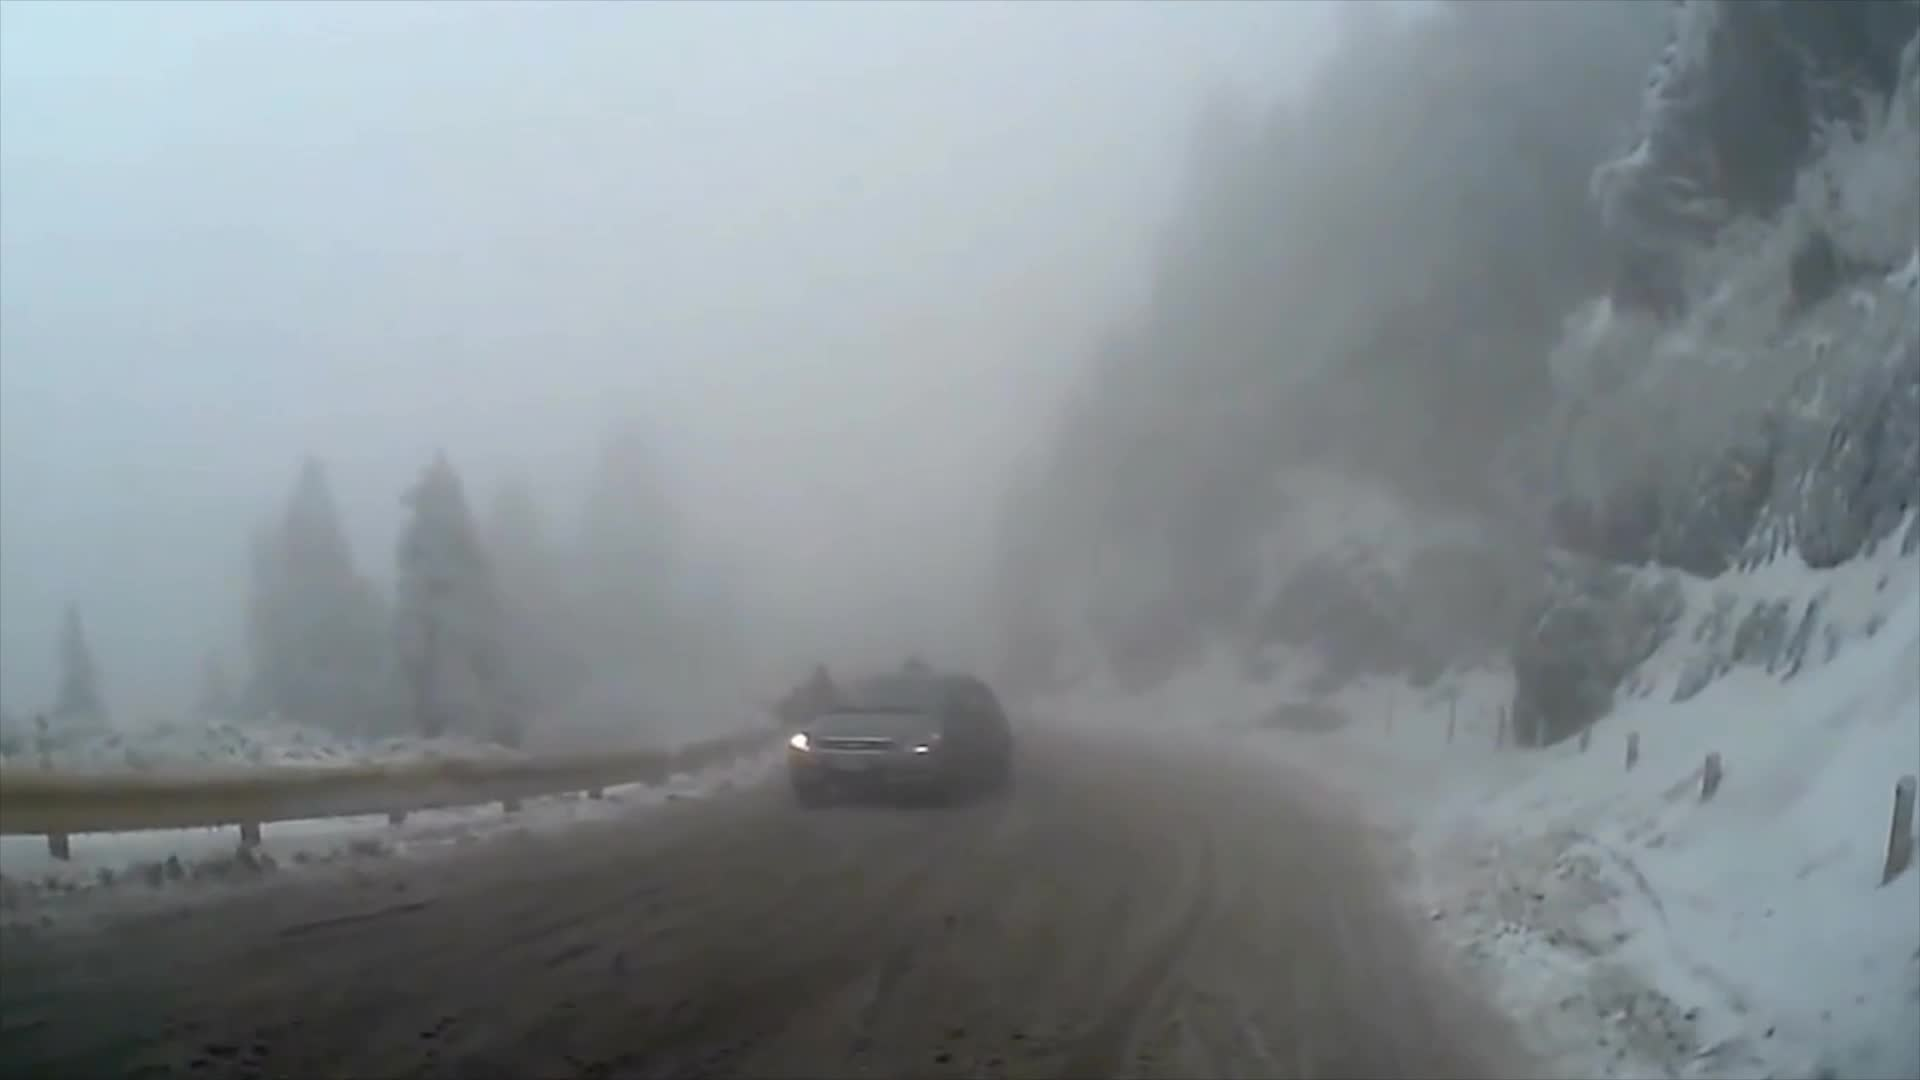vehicle: (790, 671, 1013, 810)
